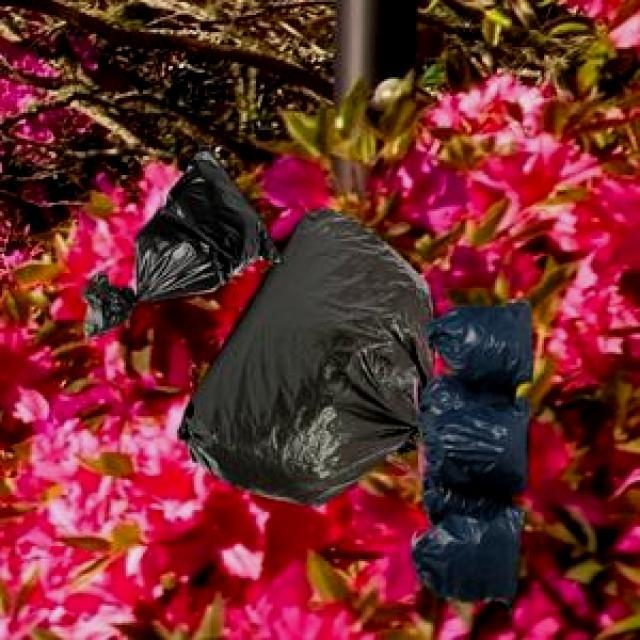Trashbag: (101, 158, 282, 316), (402, 364, 540, 500), (405, 465, 533, 608), (419, 304, 538, 389)
